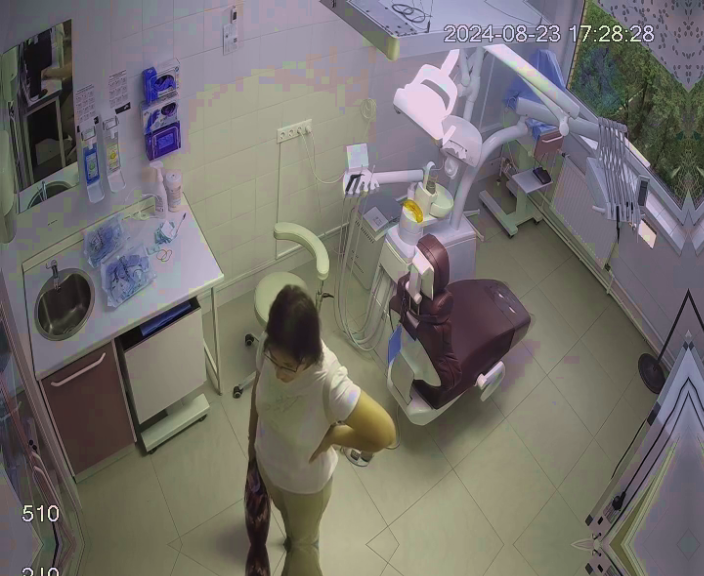Empty: (366, 229, 535, 426)
